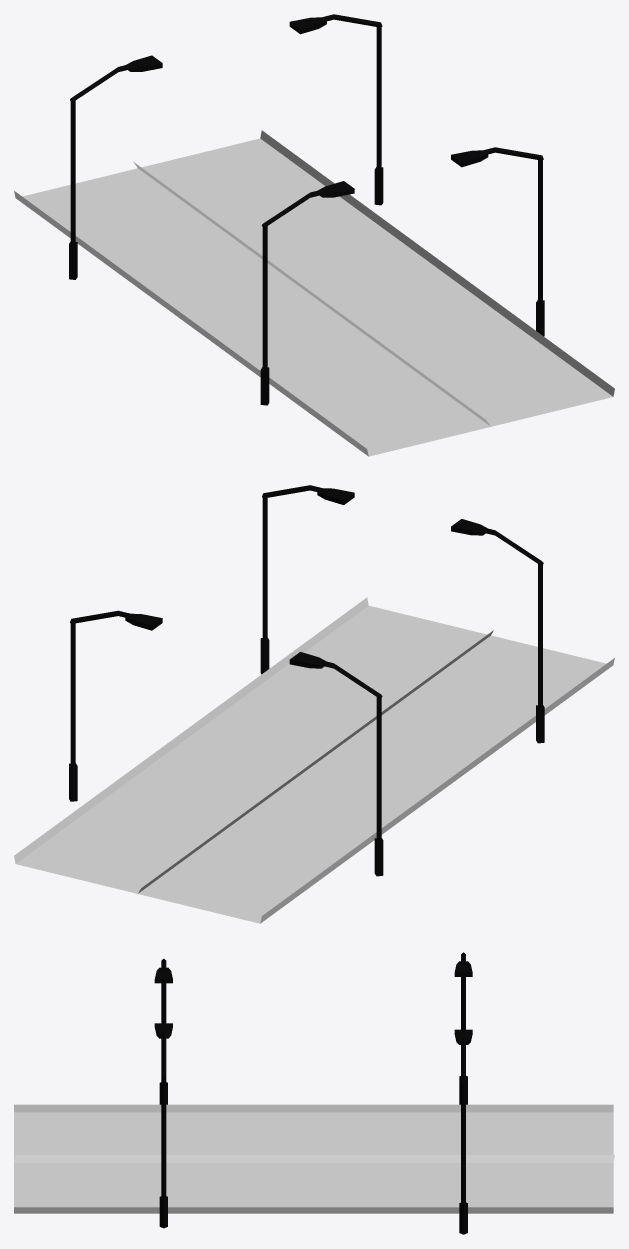
File: OpenRoad.fbx
The picture shows the model from 3 angles, top to bottom: view 1: azimuth 30°, elevation 25°; view 2: azimuth 150°, elevation 25°; view 3: azimuth 270°, elevation 25°; orthographic projection. The views are drawn at different scales.
Parts seen in each view (by area): view 1: FlatOpenRoad; view 2: FlatOpenRoad; view 3: FlatOpenRoad.
Boxes of the visible parts, bbox=[...] form: FlatOpenRoad: bbox=[14, 14, 614, 456]; FlatOpenRoad: bbox=[14, 485, 614, 923]; FlatOpenRoad: bbox=[14, 952, 614, 1234].
Bounding box in the file's own units: 2057 × 1252 × 4010.
3 materials, 1 textured.
